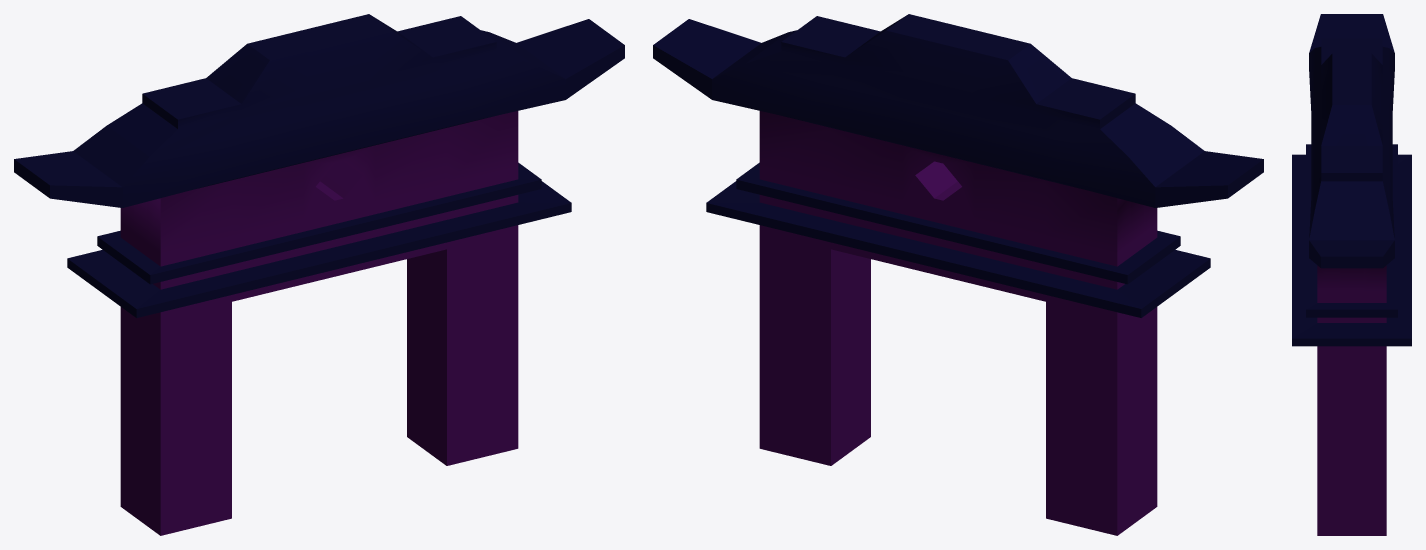
The model's file is Gate.fbx.
The picture shows the model from 3 angles, left to right: view 1: azimuth 30°, elevation 25°; view 2: azimuth 150°, elevation 25°; view 3: azimuth 270°, elevation 25°; orthographic projection. The views are drawn at different scales.
Visible parts, largest first — view 1: Gate1; view 2: Gate1; view 3: Gate1.
Part boxes in pixels (bbox=[...]): Gate1: bbox=[14, 14, 624, 535]; Gate1: bbox=[653, 14, 1263, 535]; Gate1: bbox=[1292, 14, 1411, 535].
Bounding box in the file's own units: 22.33 × 16.35 × 4.66.
